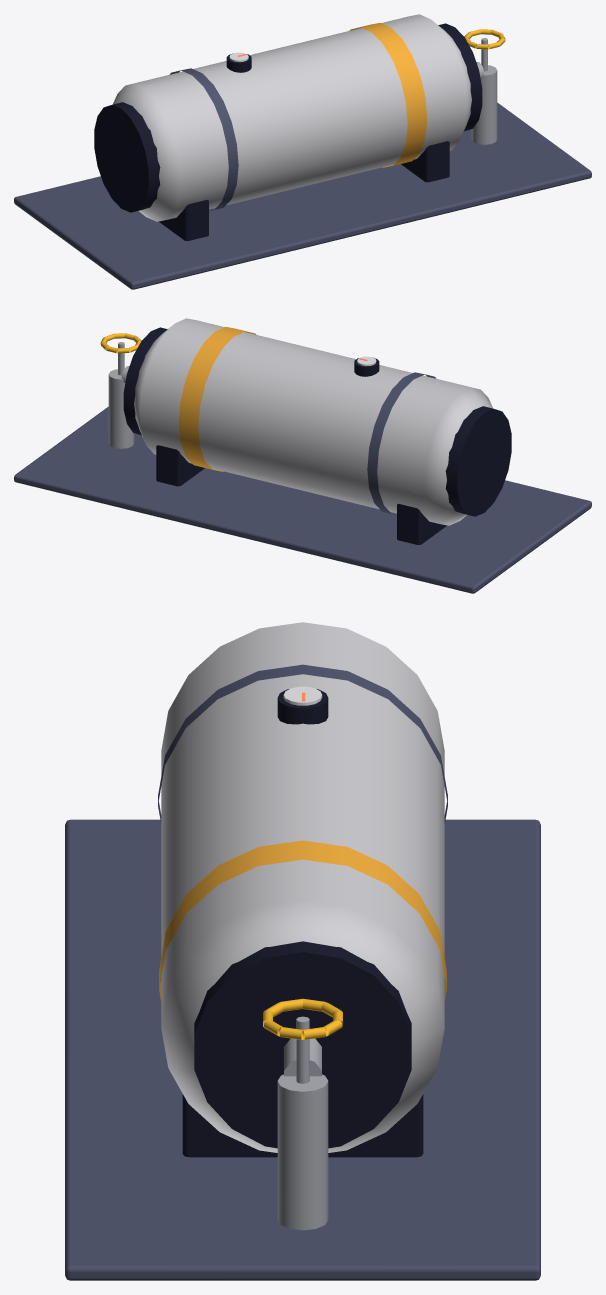
Rendered from roof.tanks.w2.d1.glb.
3 renders of one model, top to bottom at view 1: azimuth 30°, elevation 25°; view 2: azimuth 150°, elevation 25°; view 3: azimuth 270°, elevation 25°, orthographic. The views are drawn at different scales.
Parts seen in each view (by area): view 1: roof.tanks.w2.d1; view 2: roof.tanks.w2.d1; view 3: roof.tanks.w2.d1.
Boxes of the visible parts, x1,y1,x2,y2 form: roof.tanks.w2.d1: (14,14,591,289); roof.tanks.w2.d1: (14,318,591,593); roof.tanks.w2.d1: (65,622,540,1280).
Bounding box in the file's own units: 1.88 × 0.589 × 0.84.
